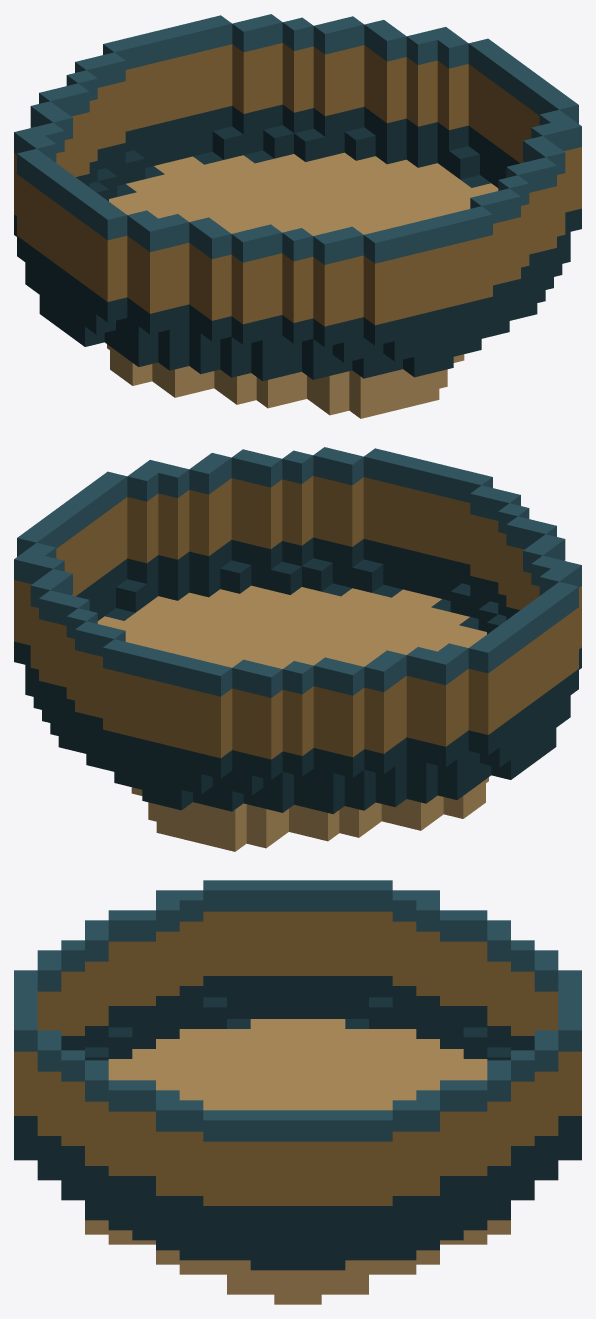
The model's file is Medieval Assets-44-Decoration - Desert - Urn Shallow - Variant7.obj.
3 views of the same model, one above another, from view 1: azimuth 30°, elevation 25°; view 2: azimuth 150°, elevation 25°; view 3: azimuth 270°, elevation 25° (orthographic). The views are drawn at different scales.
Parts seen in each view (by area): view 1: Decoration - Desert - Urn Shallow - Variant7; view 2: Decoration - Desert - Urn Shallow - Variant7; view 3: Decoration - Desert - Urn Shallow - Variant7.
Part boxes in pixels (bbox=[...]): Decoration - Desert - Urn Shallow - Variant7: bbox=[14, 14, 581, 418]; Decoration - Desert - Urn Shallow - Variant7: bbox=[14, 447, 581, 851]; Decoration - Desert - Urn Shallow - Variant7: bbox=[14, 880, 581, 1304].
Size of the model in its own units: 2.4 by 1 by 2.4.
1 material, 1 textured.
